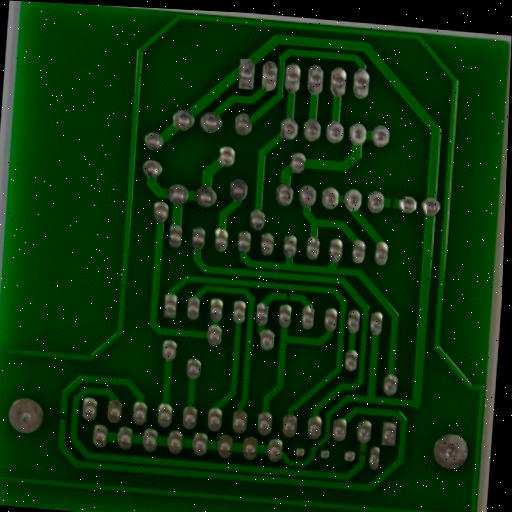open_circuit: (55, 408, 71, 425), (386, 193, 399, 212), (312, 440, 324, 454), (282, 290, 295, 302), (356, 448, 369, 460)
